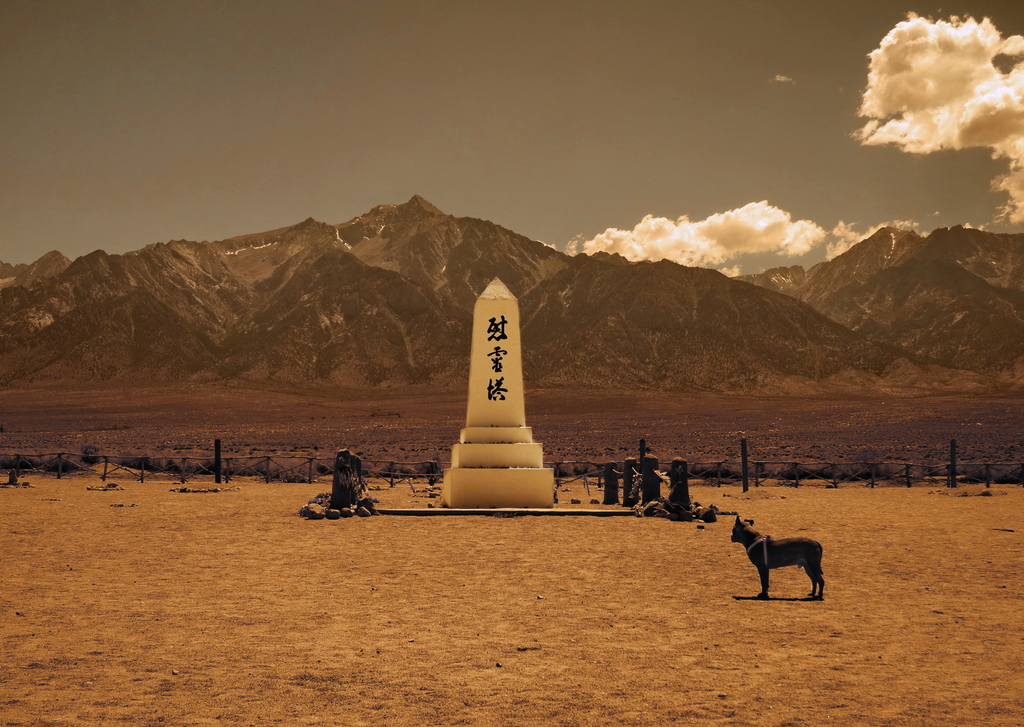Animal: (732, 511, 819, 594)
